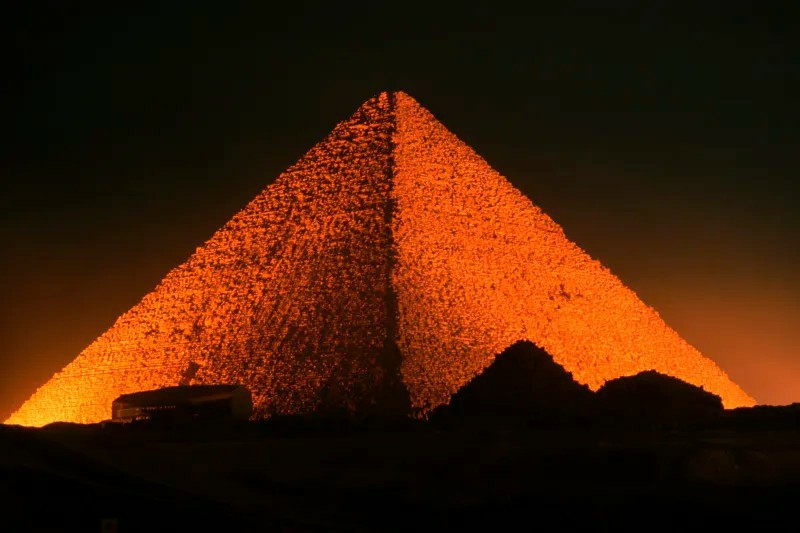Pyramid: (4, 90, 756, 429)
